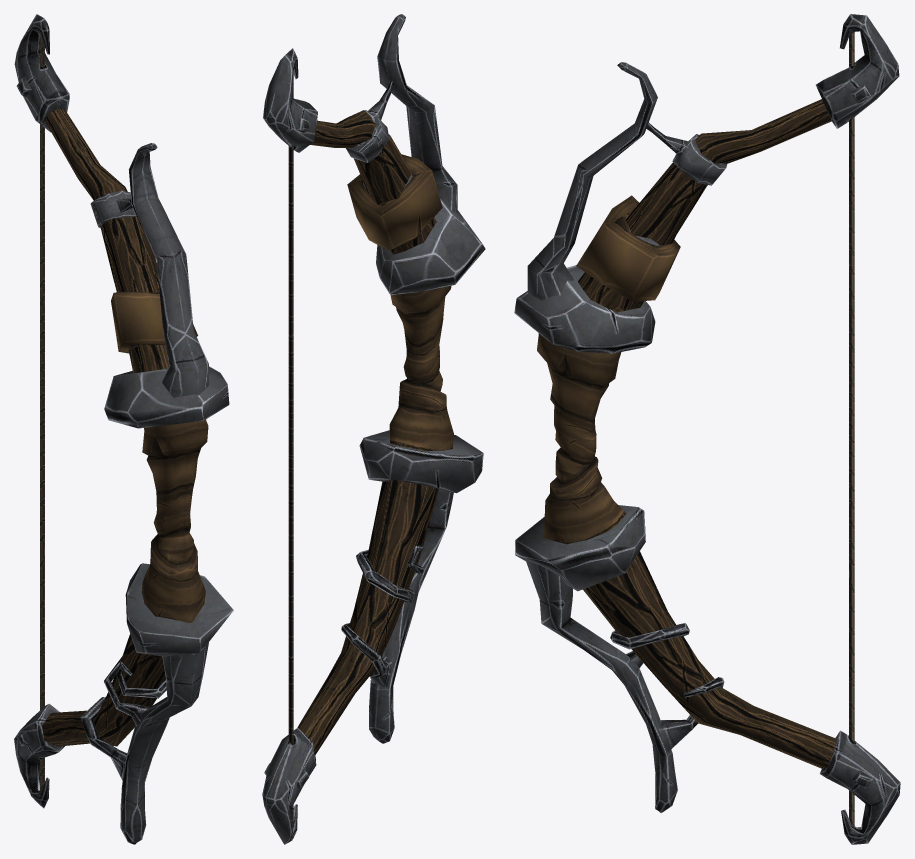
File: Arc Battle.fbx
3 renders of one model, left to right at view 1: azimuth 30°, elevation 25°; view 2: azimuth 150°, elevation 25°; view 3: azimuth 270°, elevation 25°, orthographic. The views are drawn at different scales.
Visible parts, largest first — view 1: node_id5; view 2: node_id5; view 3: node_id5.
Boxes of the visible parts, x1,y1,x2,y2 form: node_id5: (14, 14, 233, 844); node_id5: (262, 14, 485, 844); node_id5: (514, 14, 900, 844).
Size of the model in its own units: 0.0688 by 0.512 by 0.2157.
1 material, 1 textured.
